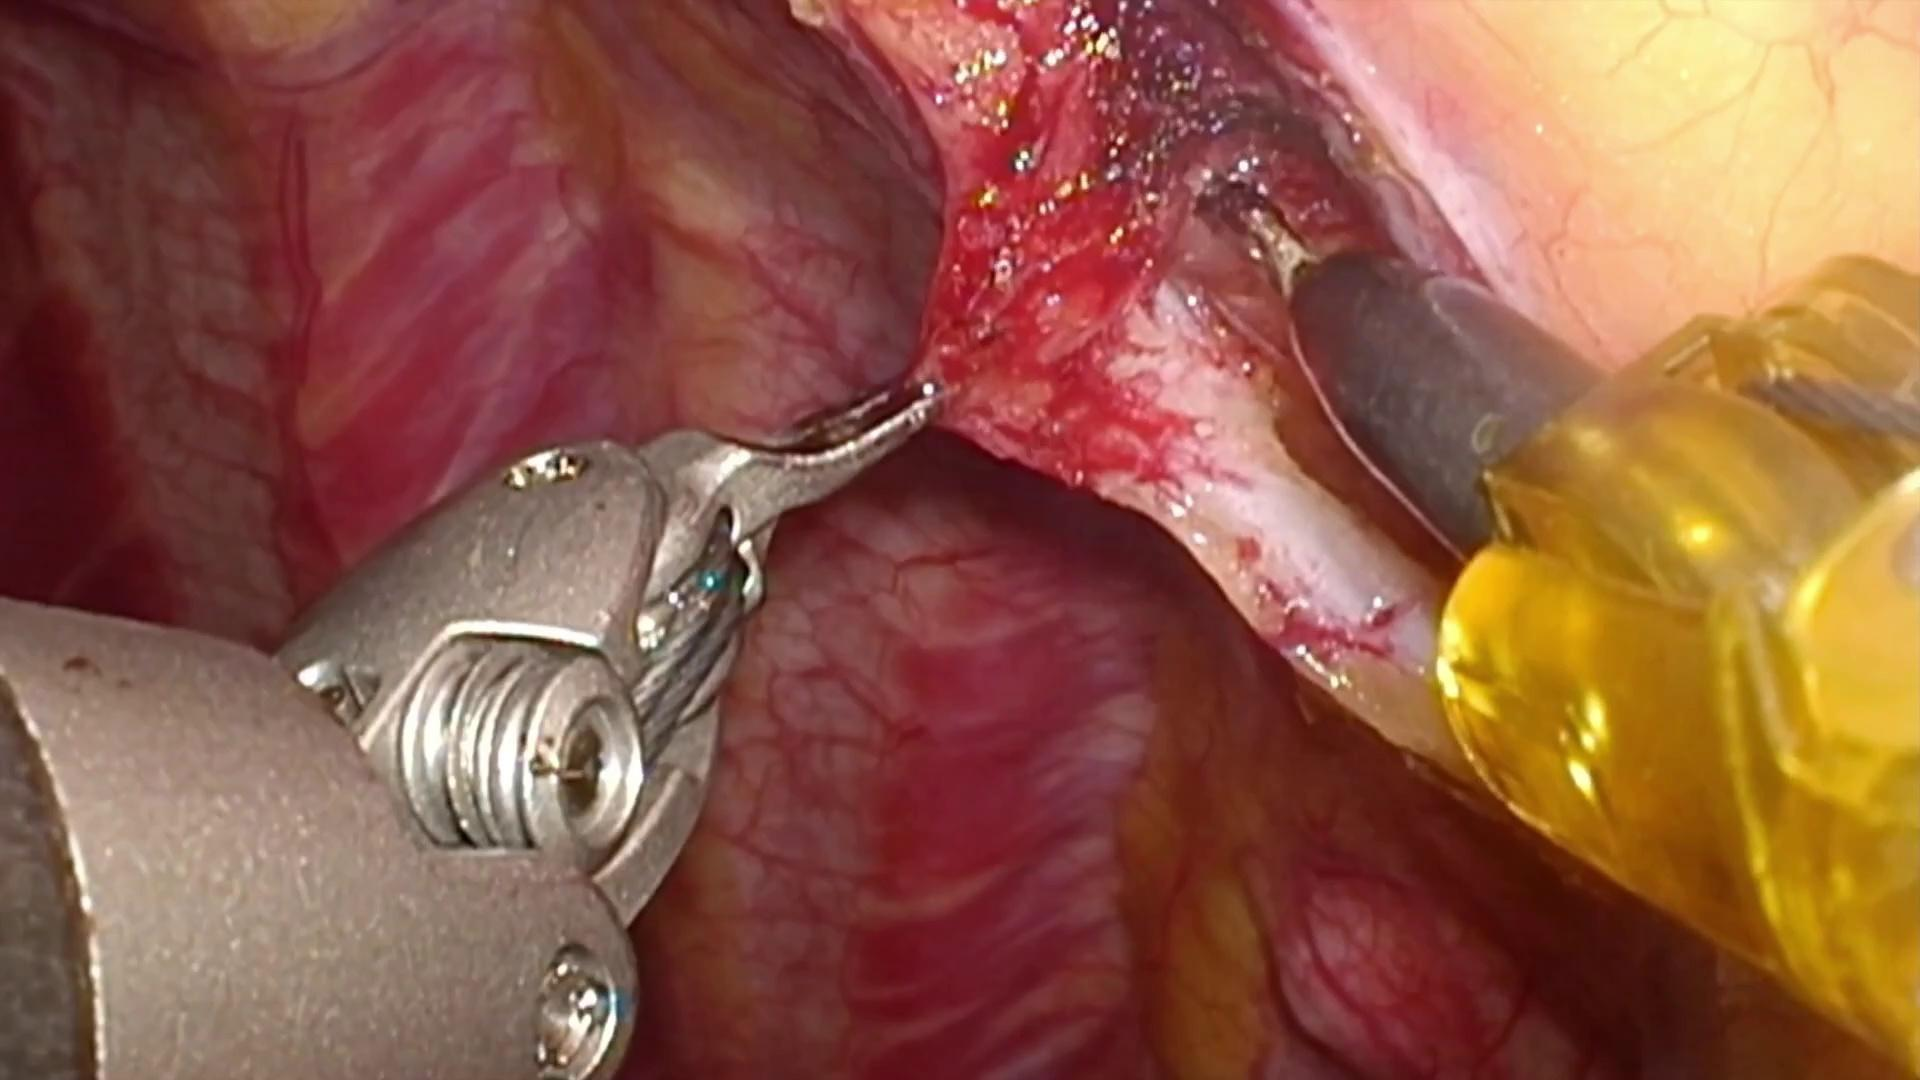Cautery_Spatula: (1204, 185, 1619, 566)
Debakey: (646, 368, 951, 603)
